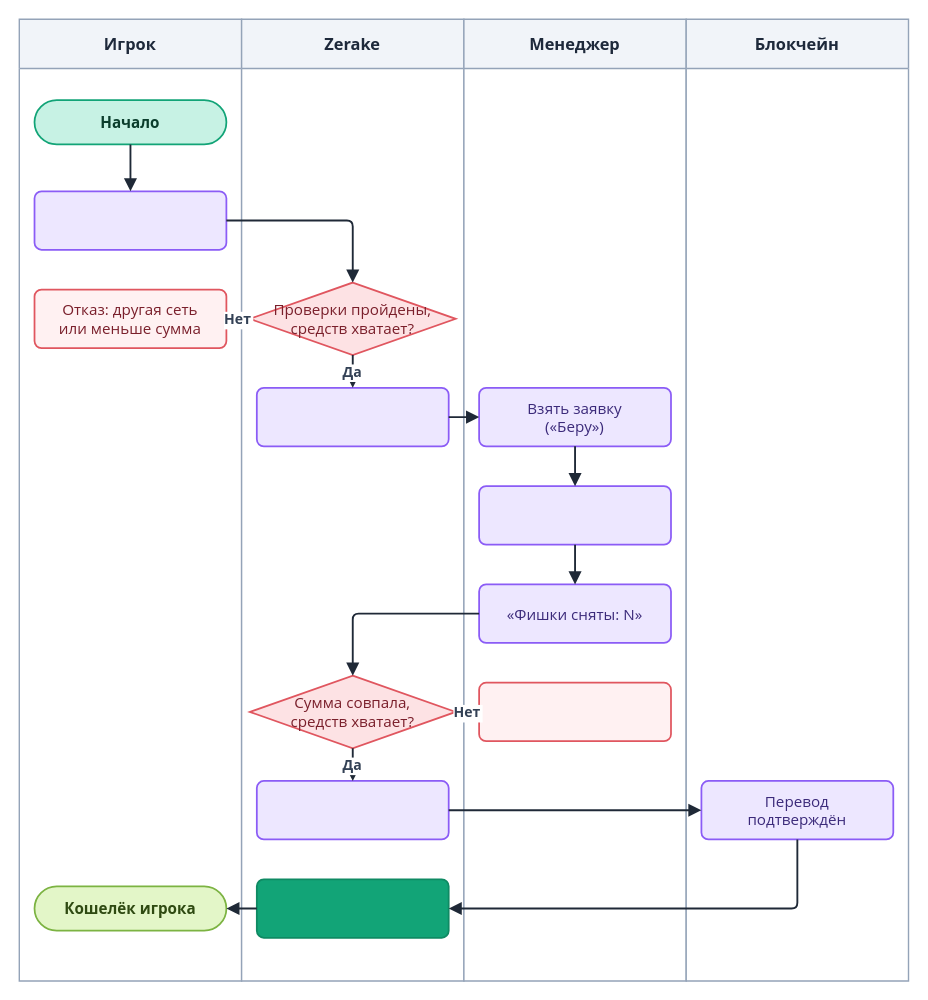
Image size: 928x1000. Some labels were removed from this diagram. Here are the shapes that lost their labels. From the top down, the centre of each, then its label:
the point at 130,220: Снять N фишек в выбранной сети
the point at 352,416: Заявка WD-… «В обработке»
the point at 574,515: Снять N фишек в ClubGG
the point at 574,711: Исправить сумму / сообщить владельцу
the point at 352,810: Заблокировать заявку, отправить перевод
the point at 352,908: «Выплачено» + ссылка
